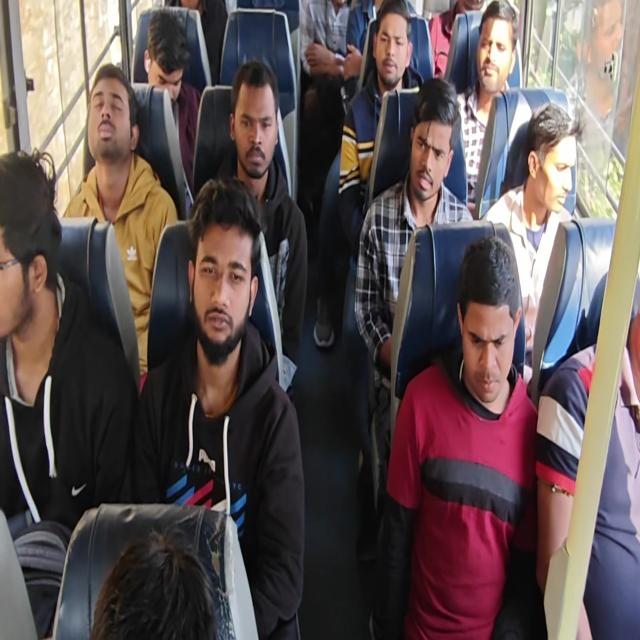person: (450, 252, 517, 422), (193, 192, 251, 363), (0, 151, 57, 306), (230, 74, 279, 174), (407, 90, 449, 198), (532, 118, 576, 216), (89, 65, 132, 165), (141, 36, 183, 108), (478, 4, 512, 88), (378, 12, 408, 87)
